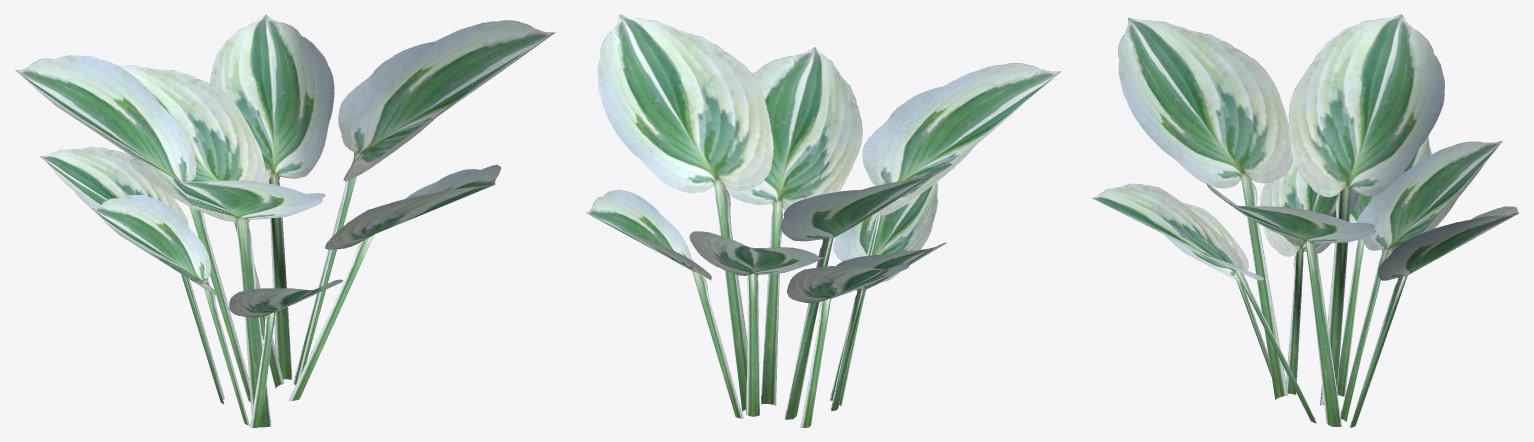
Rendered from plant_small_wg_01G.fbx.
3 views of the same model, side by side, from view 1: azimuth 30°, elevation 25°; view 2: azimuth 150°, elevation 25°; view 3: azimuth 270°, elevation 25° (orthographic). The views are drawn at different scales.
Visible parts, largest first — view 1: plant_small_wg_01G; view 2: plant_small_wg_01G; view 3: plant_small_wg_01G.
Boxes of the visible parts, x1,y1,x2,y2 form: plant_small_wg_01G: (15,14,555,427); plant_small_wg_01G: (586,14,1061,427); plant_small_wg_01G: (1092,14,1518,427).
Size of the model in its own units: 63.6 by 47.73 by 60.17.
